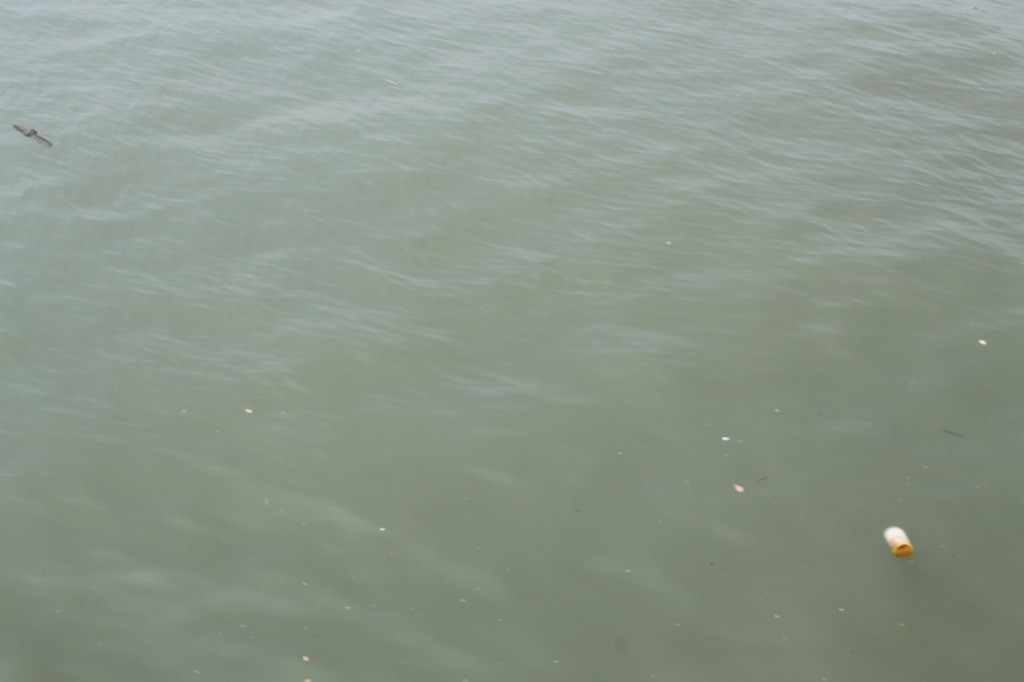organic: (1, 105, 65, 164)
plastic: (880, 522, 919, 562), (297, 651, 314, 667), (729, 480, 745, 496), (242, 405, 260, 419), (972, 335, 991, 348), (376, 521, 390, 534), (722, 429, 731, 445), (771, 610, 782, 622), (837, 604, 848, 616), (662, 237, 675, 247)
